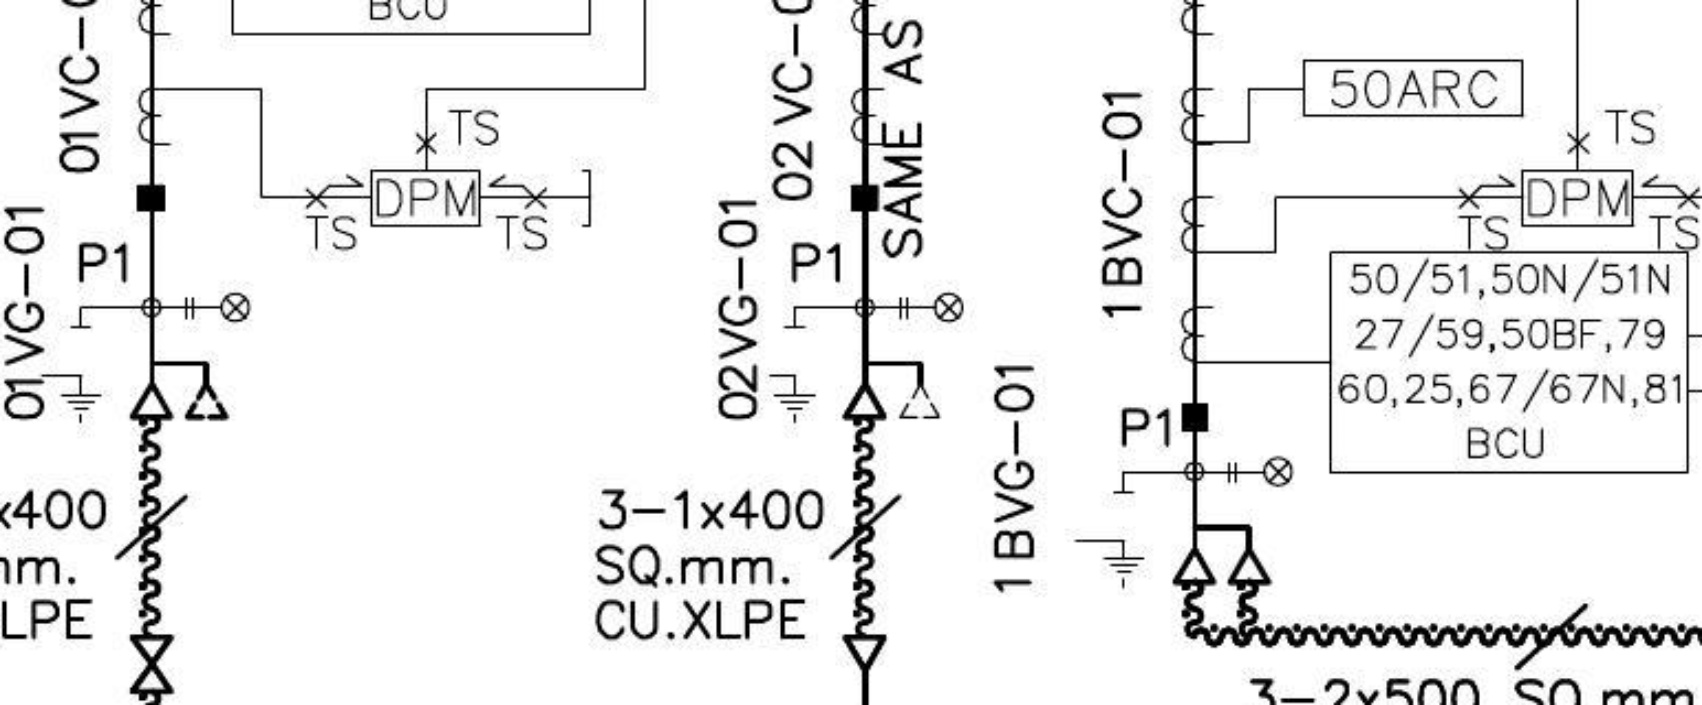22_gs: (1072, 488, 1148, 588), (40, 323, 105, 424), (765, 324, 818, 424)
22_ll: (1227, 455, 1295, 489), (898, 291, 965, 325), (183, 291, 252, 324)
DPM: (1519, 167, 1636, 230), (367, 167, 484, 230)
terminator_double: (1170, 523, 1274, 587)
terminator_single: (840, 632, 890, 673)
terminator_splicing_kits: (128, 633, 175, 695)
terminator_w_future: (127, 357, 231, 423), (841, 358, 944, 423)
